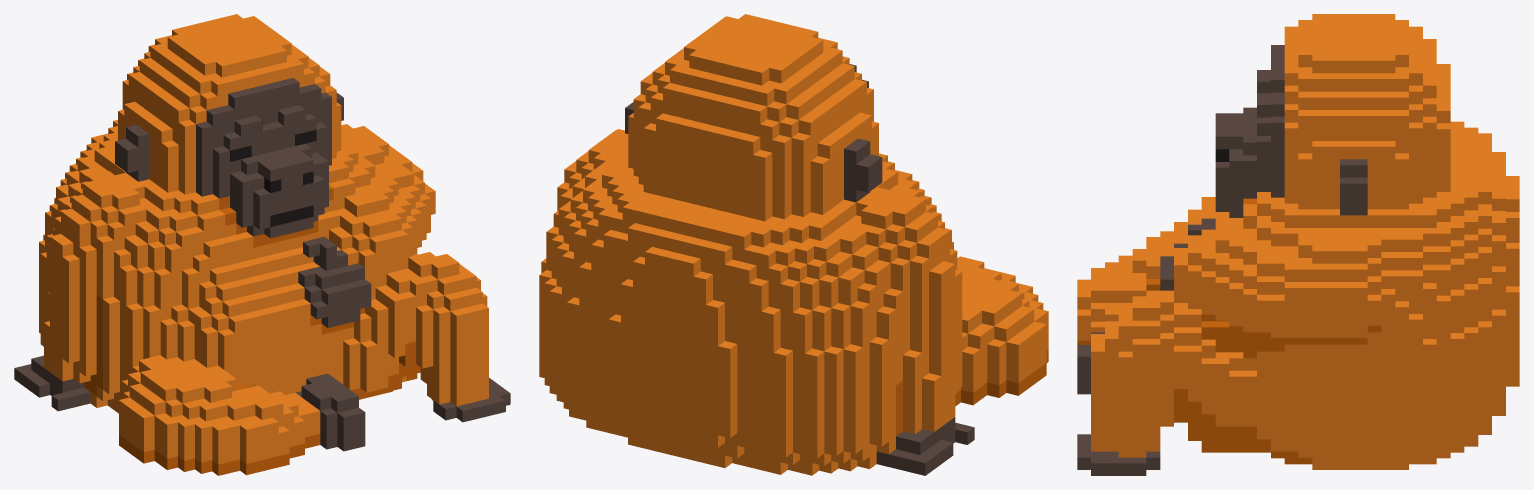
Rendered from 4Card_2Lv.obj.
3 renders of one model, left to right at view 1: azimuth 30°, elevation 25°; view 2: azimuth 150°, elevation 25°; view 3: azimuth 270°, elevation 25°, orthographic. The views are drawn at different scales.
Bounding box in the file's own units: 3.2 × 2.8 × 3.2.
